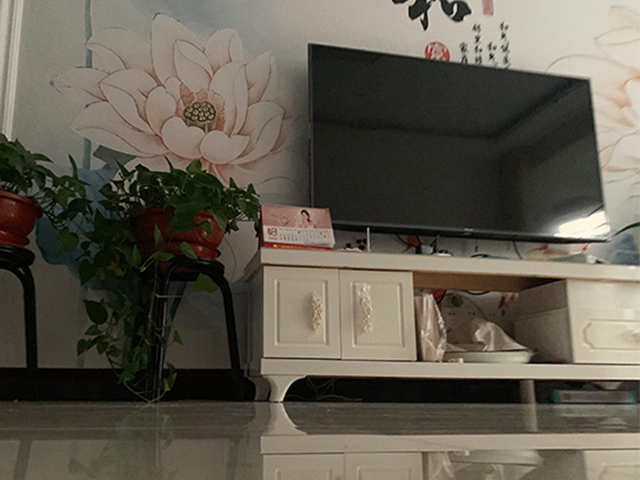cabinet: (243, 246, 640, 404)
stool: (136, 254, 242, 402), (1, 244, 39, 399)
